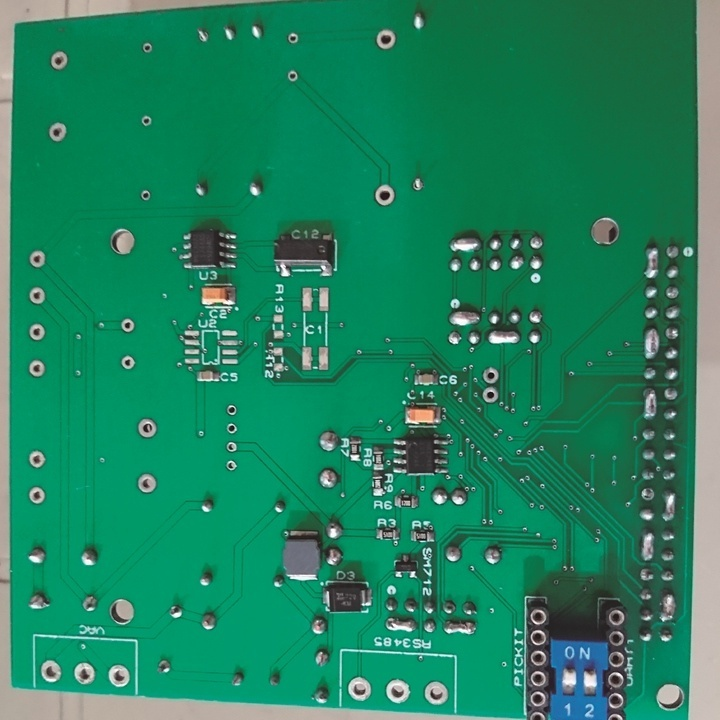F: (421, 678, 452, 709), (384, 675, 413, 707), (105, 662, 133, 690), (346, 674, 372, 703), (373, 26, 399, 54), (371, 183, 398, 209), (134, 414, 159, 442), (38, 656, 63, 683), (72, 661, 97, 686), (26, 484, 49, 508), (47, 119, 70, 143), (134, 470, 156, 495), (48, 49, 70, 73), (480, 363, 501, 385), (26, 448, 46, 470), (527, 230, 547, 252), (193, 23, 212, 46), (409, 172, 426, 195), (28, 358, 47, 378), (27, 322, 47, 341), (27, 285, 47, 304), (526, 306, 545, 326), (480, 386, 501, 404), (663, 321, 680, 343), (27, 248, 46, 267), (118, 317, 138, 335), (639, 483, 656, 504), (664, 280, 680, 301), (664, 241, 681, 260), (225, 436, 241, 456), (447, 329, 464, 347), (223, 402, 241, 419), (224, 455, 239, 475), (119, 355, 136, 372), (224, 420, 241, 437), (284, 29, 300, 47), (284, 67, 299, 86), (141, 41, 156, 57), (139, 112, 153, 128), (138, 187, 152, 202), (661, 384, 673, 399)
P: (447, 306, 483, 329), (640, 323, 662, 359), (384, 614, 419, 636), (440, 618, 478, 638), (485, 328, 522, 348), (447, 234, 483, 254), (643, 243, 661, 282), (661, 486, 679, 525), (639, 527, 656, 563), (640, 386, 657, 421), (659, 590, 677, 623)
